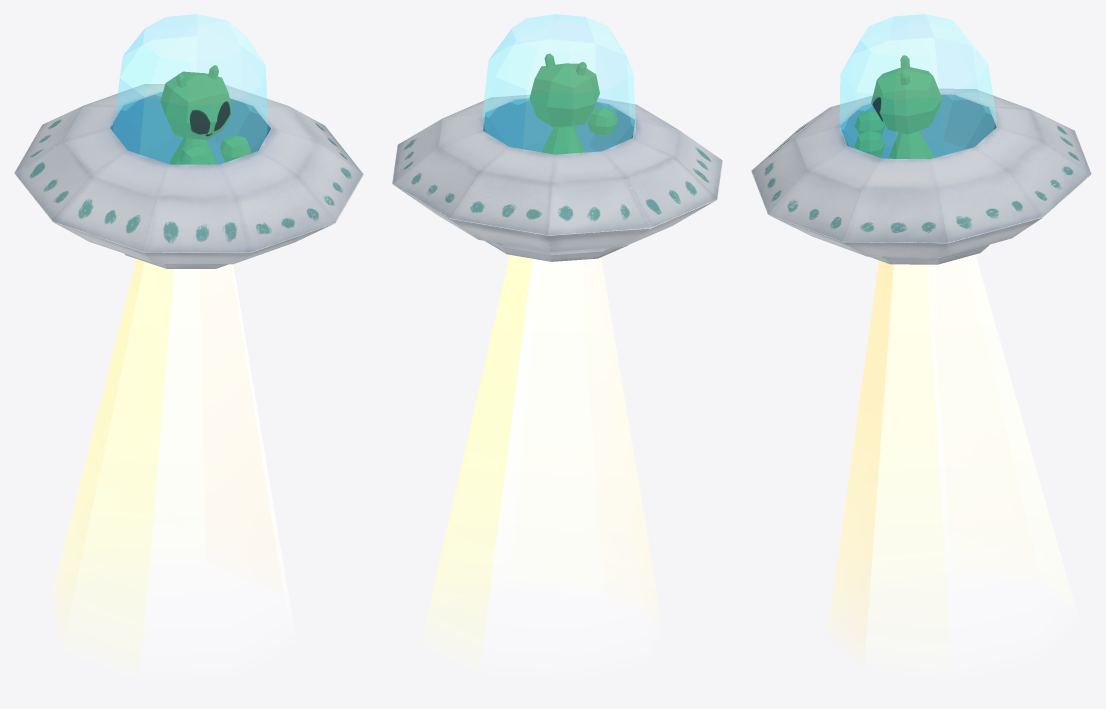
The model's file is ufo.glb.
3 renders of one model, left to right at view 1: azimuth 30°, elevation 25°; view 2: azimuth 150°, elevation 25°; view 3: azimuth 270°, elevation 25°, orthographic. The views are drawn at different scales.
Visible parts, largest first — view 1: Beam, UFO, dome, Alien, Hands; view 2: Beam, UFO, dome, Alien, Hands; view 3: Beam, UFO, dome, Alien, Hands.
Part boxes in pixels (<box>): Beam: <box>50,259,294,671</box>; UFO: <box>14,84,363,268</box>; dome: <box>113,14,267,166</box>; Alien: <box>160,65,232,164</box>; Hands: <box>179,135,250,164</box>; Beam: <box>422,255,661,671</box>; UFO: <box>392,94,722,261</box>; dome: <box>482,14,635,154</box>; Alien: <box>529,53,599,154</box>; Hands: <box>587,107,617,135</box>; Beam: <box>828,254,1077,671</box>; UFO: <box>751,88,1091,264</box>; dome: <box>840,14,996,160</box>; Alien: <box>871,55,942,159</box>; Hands: <box>854,110,885,157</box>.
Bounding box in the file's own units: 1.98 × 4 × 1.97.
4 materials, 3 textured.
